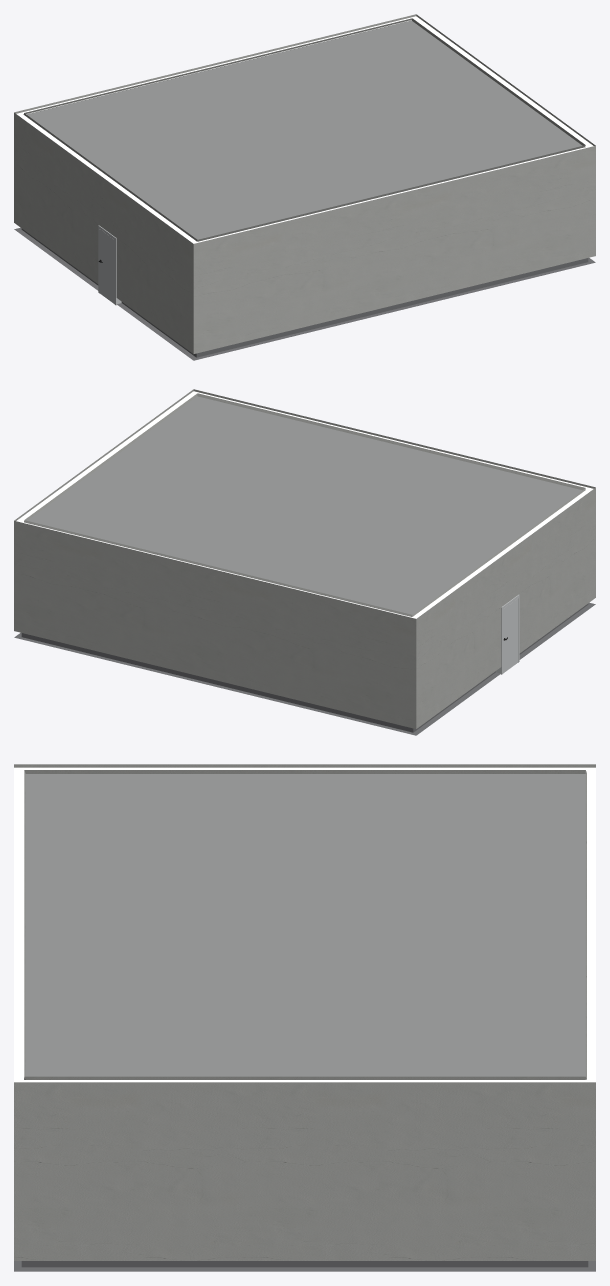
Rendered from simple_room.glb.
3 renders of one model, top to bottom at view 1: azimuth 30°, elevation 25°; view 2: azimuth 150°, elevation 25°; view 3: azimuth 270°, elevation 25°, orthographic. The views are drawn at different scales.
Visible parts, largest first — view 1: floor, ceilling, gray, light, Door; view 2: floor, ceilling, gray, light, Door; view 3: ceilling, floor, light, gray.
Boxes of the visible parts, left/top/right/bottom form: floor: left=14, top=14, right=595, bottom=353; ceilling: left=27, top=20, right=582, bottom=239; gray: left=14, top=227, right=595, bottom=360; light: left=16, top=16, right=593, bottom=243; Door: left=99, top=229, right=114, bottom=303; floor: left=14, top=389, right=595, bottom=728; ceilling: left=27, top=396, right=581, bottom=614; gray: left=14, top=602, right=595, bottom=735; light: left=16, top=391, right=593, bottom=618; Door: left=503, top=598, right=517, bottom=672; ceilling: left=25, top=774, right=585, bottom=1076; floor: left=14, top=764, right=595, bottom=1260; light: left=14, top=767, right=595, bottom=1082; gray: left=14, top=1261, right=595, bottom=1271.
Bounding box in the file's own units: 66.35 × 18.46 × 50.99.
7 materials, 2 textured.
